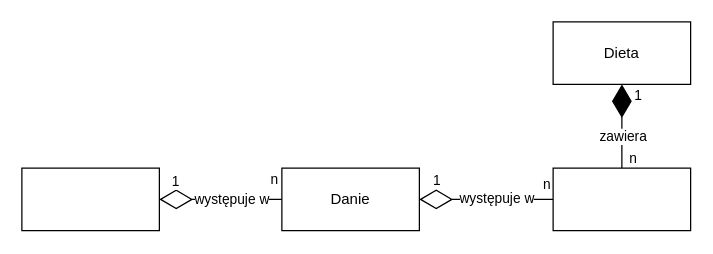
Image size: 713x254. Some labels were removed from this diagram. Each missing label, with the centre of its shape:
Składnik: pixel 90 199
Slot diety: pixel 621 199
